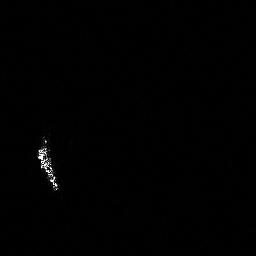ship: (32, 133, 64, 194)
